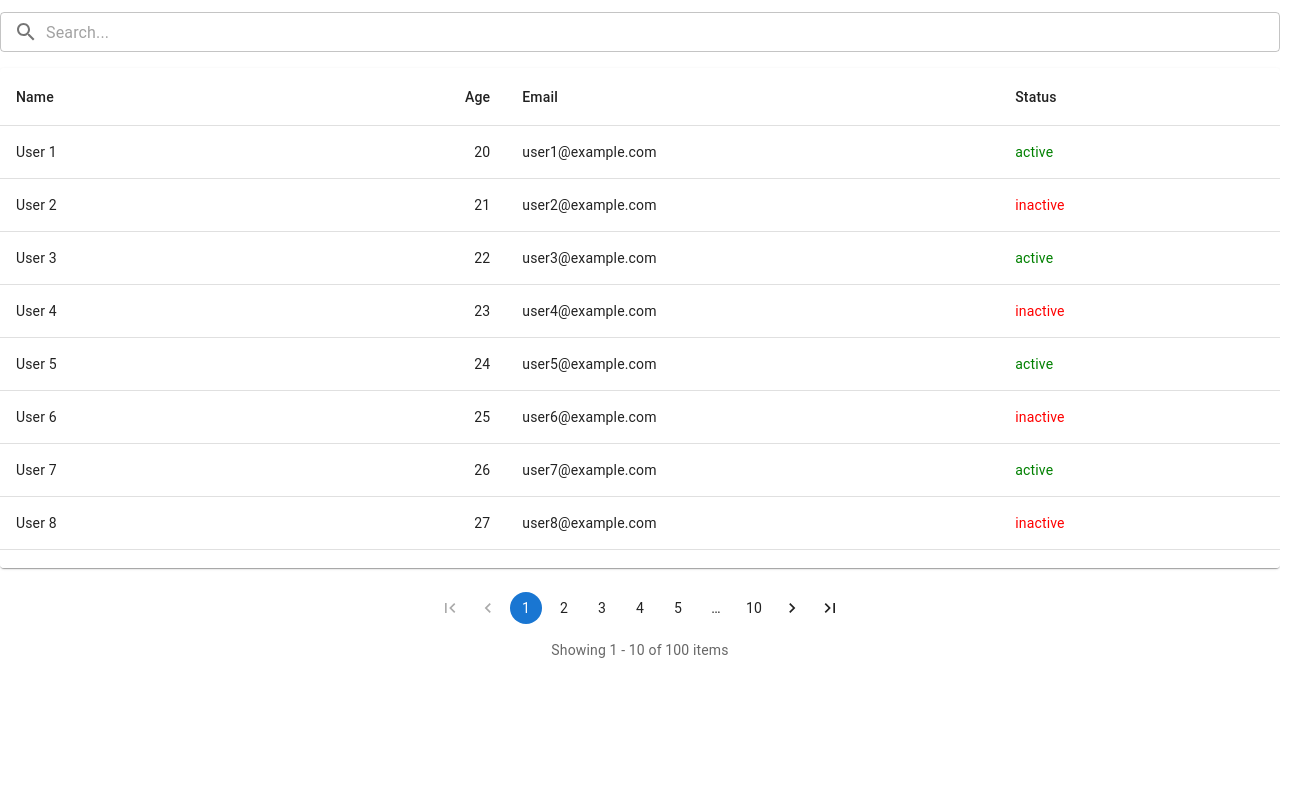
Test case: ModernTable Component › Pagination (Requirement 43.6) › should navigate to last page
Click last page button
Click the button named "Go to last page". click: click(830, 608)
box: [814,592,846,624]
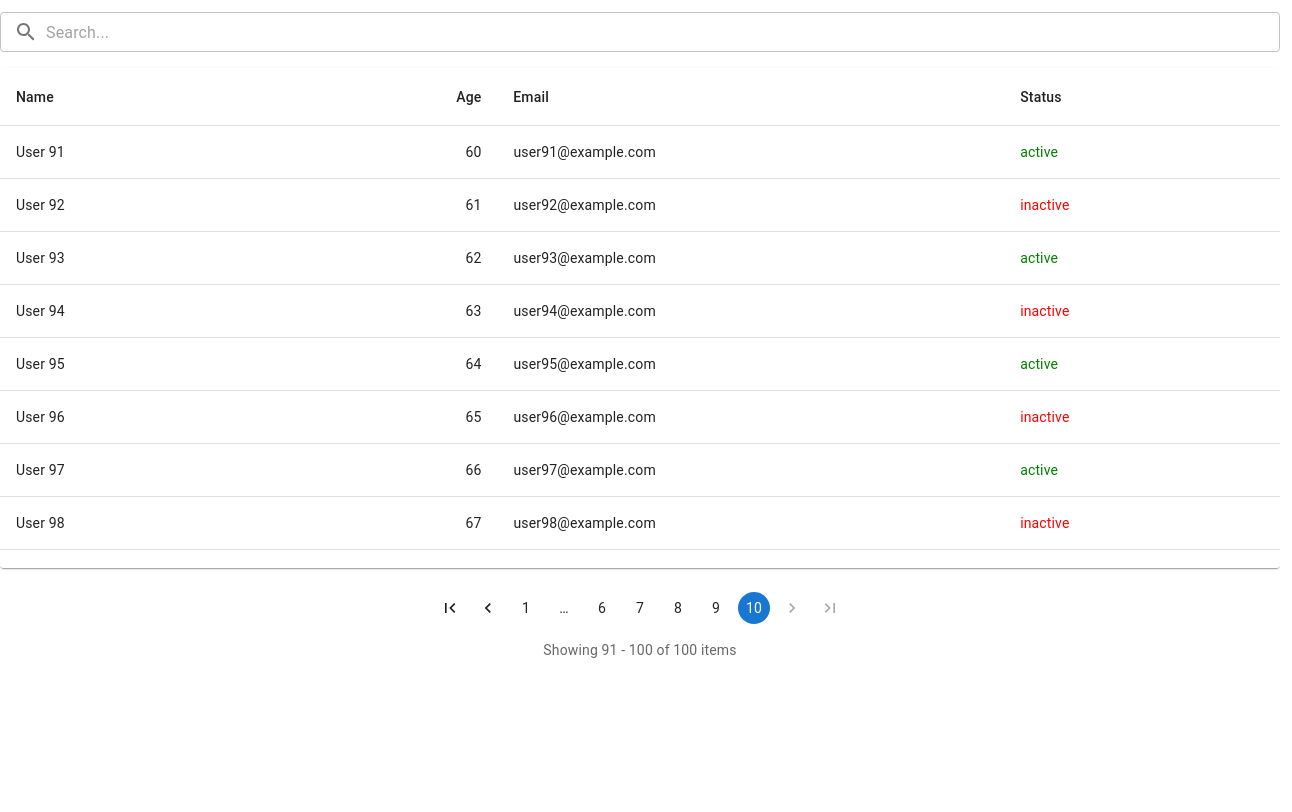
Expected: the text "User 91" is shown, [0,126,266,179]
